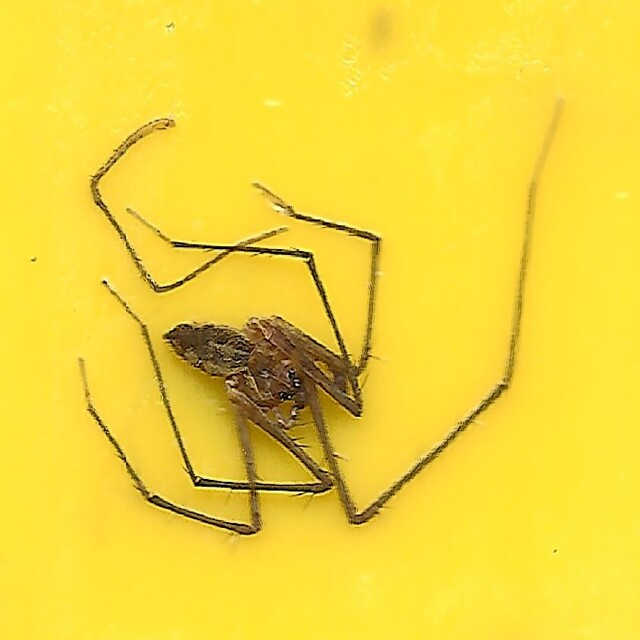Araneae: (76, 96, 564, 544)
